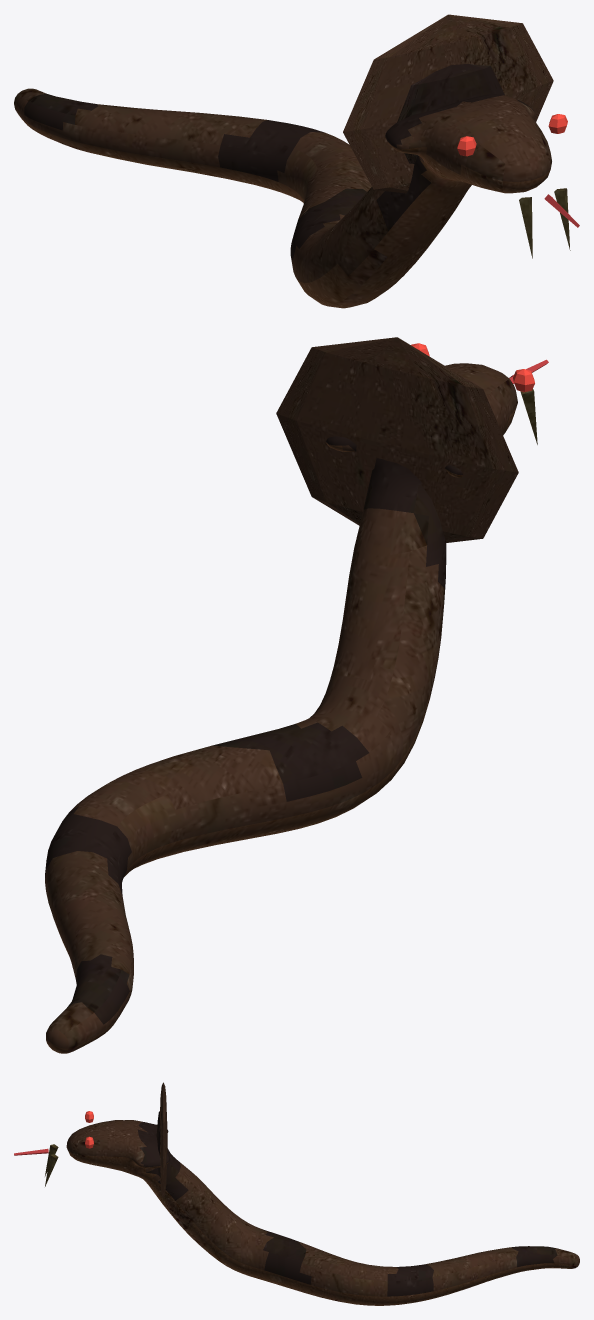
File: mon_serp_02.glb
3 views of the same model, one above another, from view 1: azimuth 30°, elevation 25°; view 2: azimuth 150°, elevation 25°; view 3: azimuth 270°, elevation 25° (orthographic). The views are drawn at different scales.
Parts seen in each view (by area): view 1: mon_serp_02; view 2: mon_serp_02; view 3: mon_serp_02.
Boxes of the visible parts, <box> form: mon_serp_02: <box>14,14,579,308</box>; mon_serp_02: <box>45,337,548,1053</box>; mon_serp_02: <box>14,1082,579,1305</box>.
Bounding box in the file's own units: 0.3905 × 0.6119 × 1.58.
6 materials, 4 textured.
